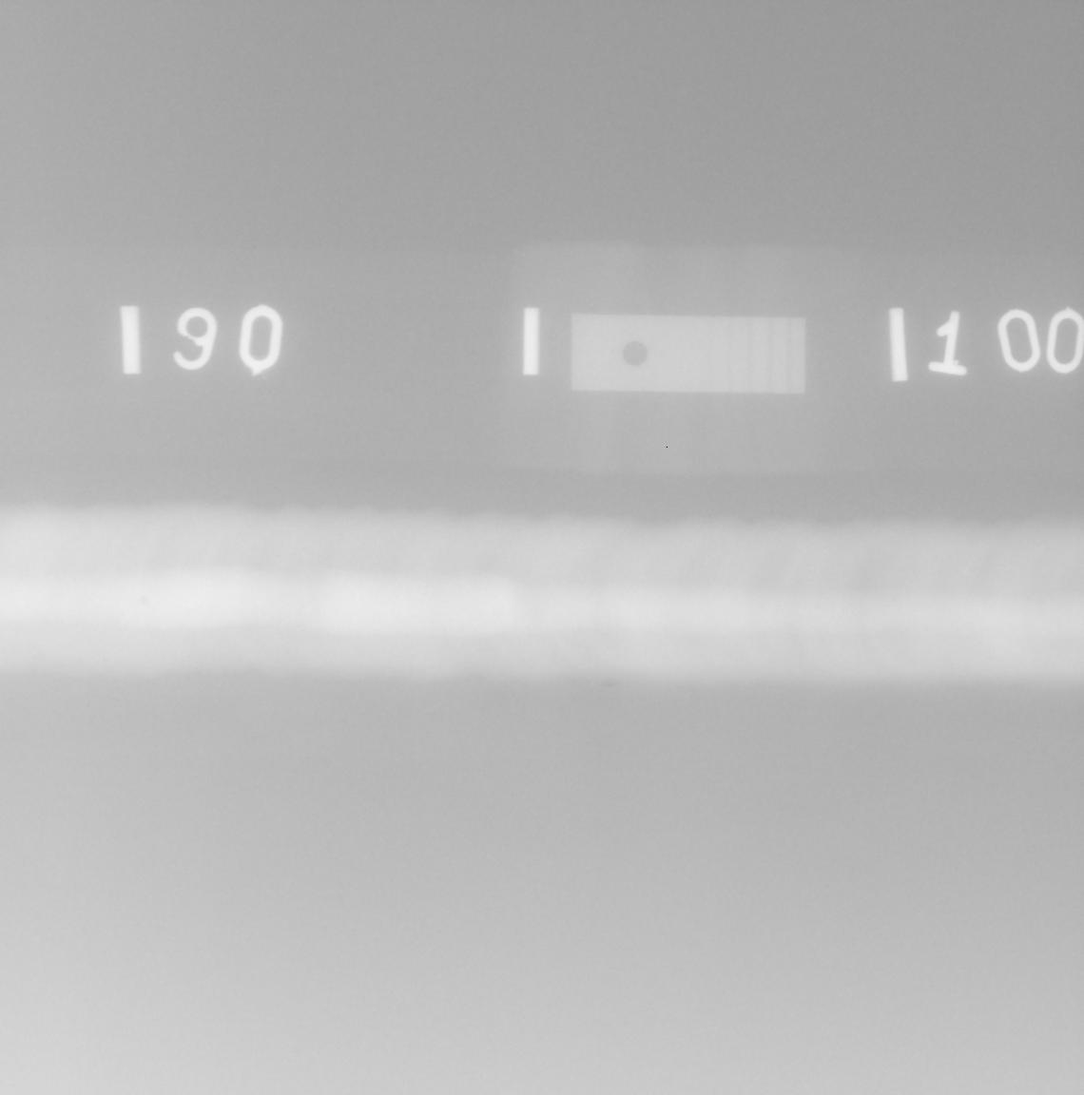Pore/Porosity: (138, 595, 150, 606), (814, 605, 820, 610), (891, 598, 895, 601)
Reference Standard 1: (571, 313, 806, 395)
Undercut: (598, 680, 621, 688)
